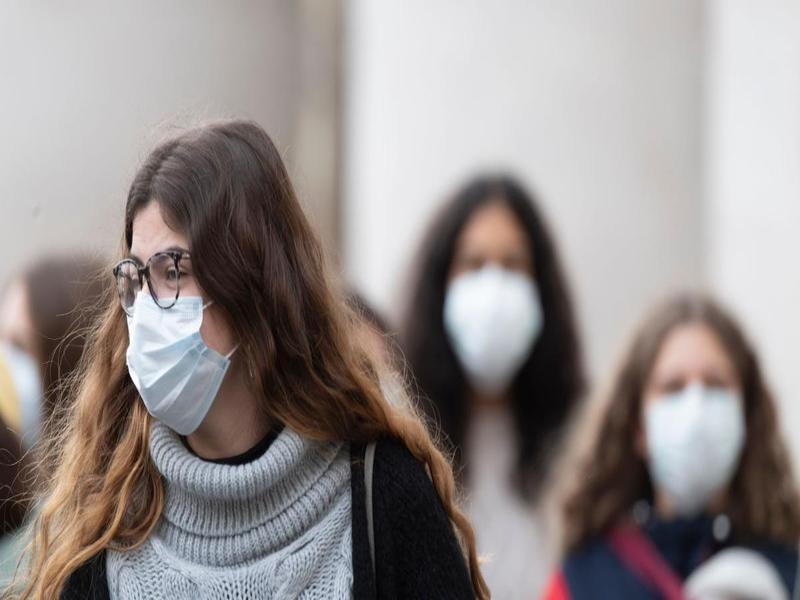with_mask: (113, 120, 301, 445), (633, 318, 751, 514), (438, 191, 547, 398)
